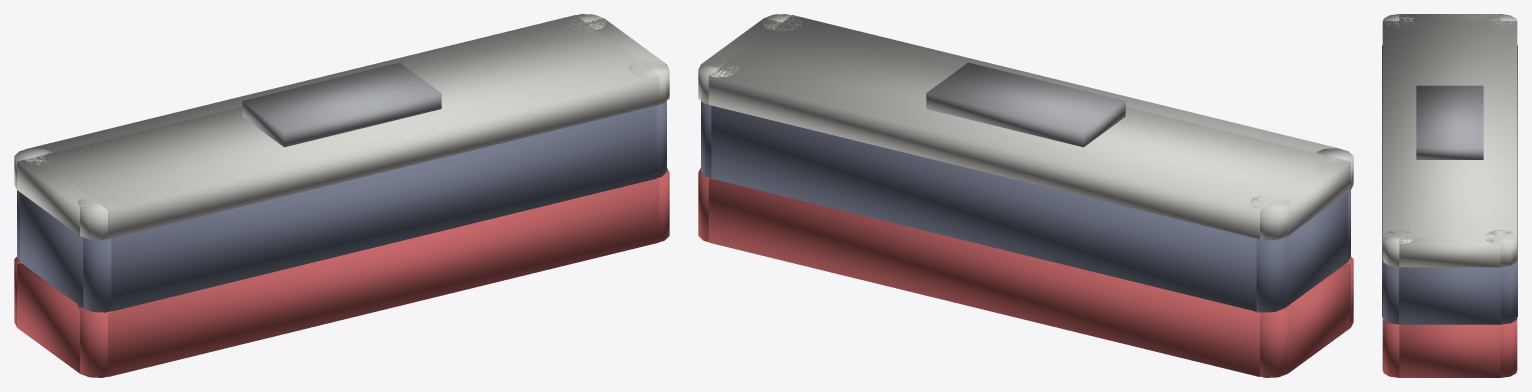
The model's file is tram_mid.glb.
3 renders of one model, left to right at view 1: azimuth 30°, elevation 25°; view 2: azimuth 150°, elevation 25°; view 3: azimuth 270°, elevation 25°, orthographic. The views are drawn at different scales.
Visible parts, largest first — view 1: tram_mid; view 2: tram_mid; view 3: tram_mid.
Part boxes in pixels (x1,y1,x2,y2): tram_mid: (14,14,669,377); tram_mid: (698,14,1353,377); tram_mid: (1382,14,1517,377).
Size of the model in its own units: 9.7 by 2.87 by 2.42.
